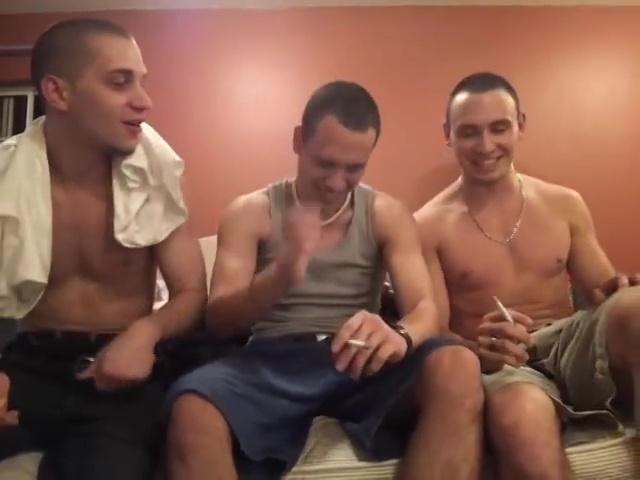cigarette: (489, 293, 519, 325), (343, 337, 371, 348)
